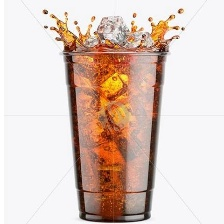glass: (51, 40, 179, 224)
